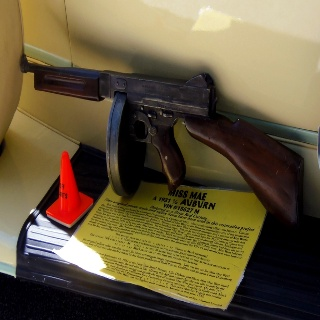rifle: (18, 50, 307, 229)
